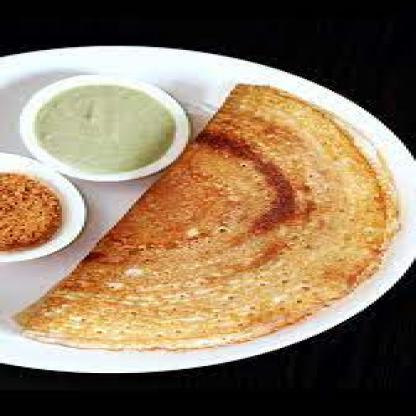dosa: (12, 85, 398, 350)
